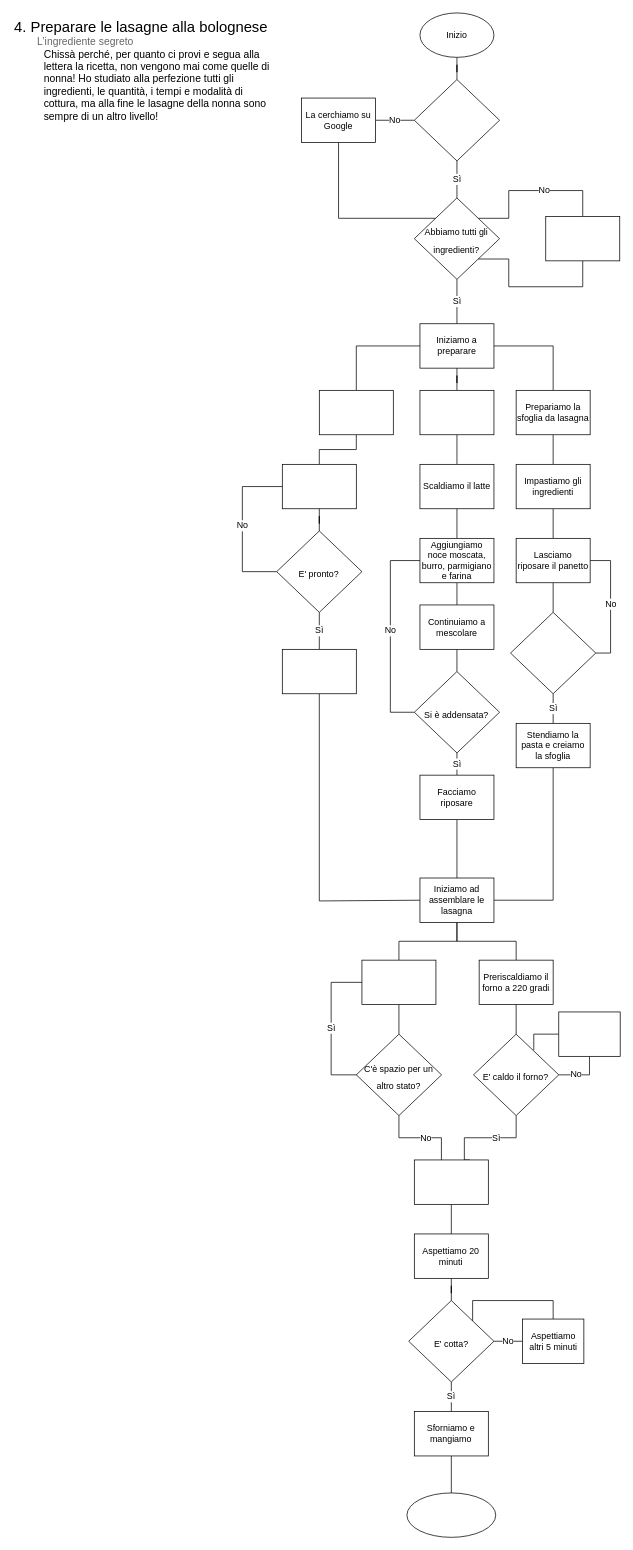
The diagram is 633 pixels wide and 1550 high, and some of its shapes have lost their labels. The shapes that lost their labels are listed below. From the top down, each one's centre as x and y in pixels, then its label:
(457,120): Conosciamo la ricetta?
(582,238): Andiamo a comprarli al supermercato
(356,412): Prepariamo il ragù
(456,412): Prepariamo la besciamella
(319,486): Cuociamo lentamente
(319,671): Lasciamo raffreddare
(553,653): Il panetto si è rassodato?
(398,982): Assembliamo uno strato
(589,1033): Aspettiamo
(451,1181): Inforniamo la lasagna
(451,1514): Fine
